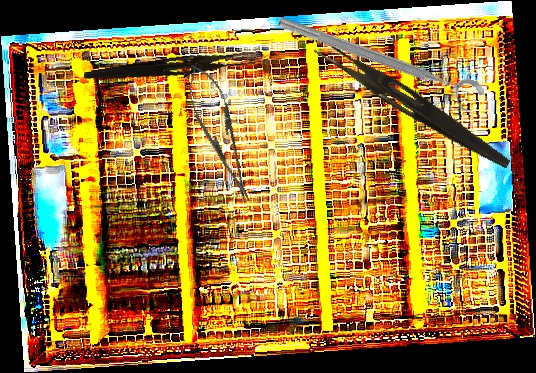Dressing Forceps: (309, 36, 517, 173), (83, 45, 256, 89)
Fixation Ring: (271, 11, 487, 117)
Needle Holder: (177, 58, 263, 209)
